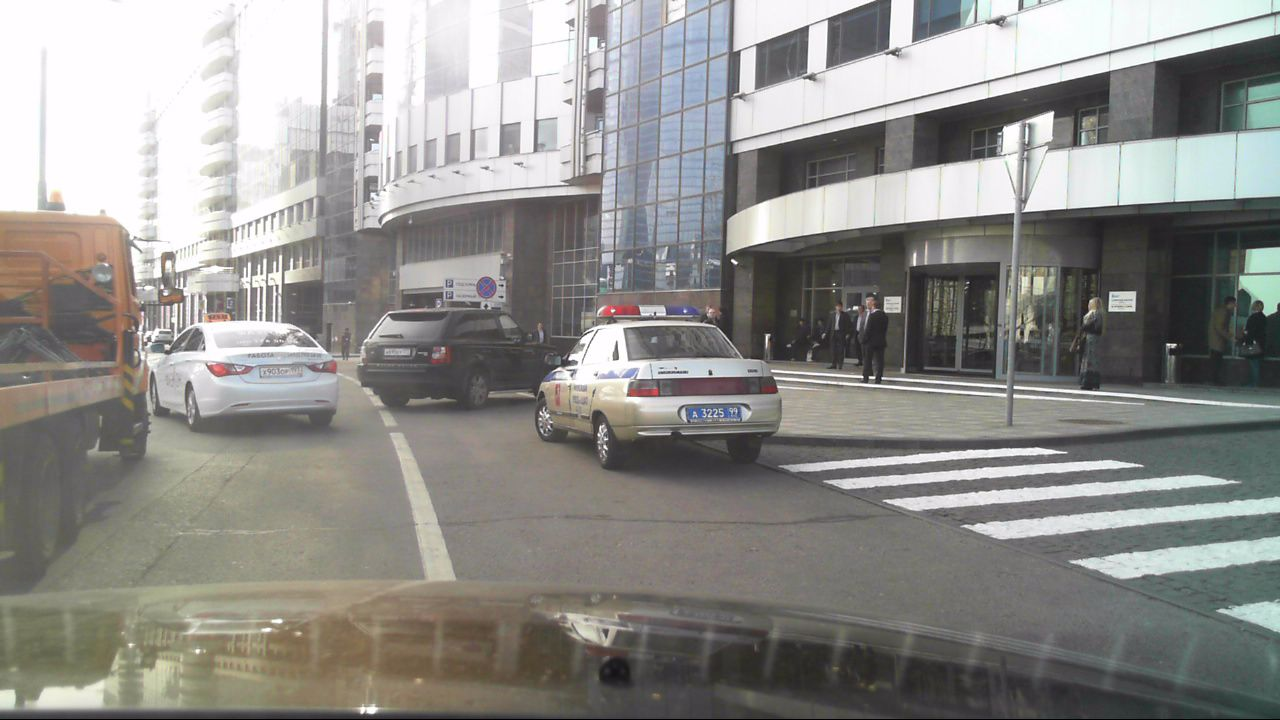No Parking: (475, 275, 497, 299)
